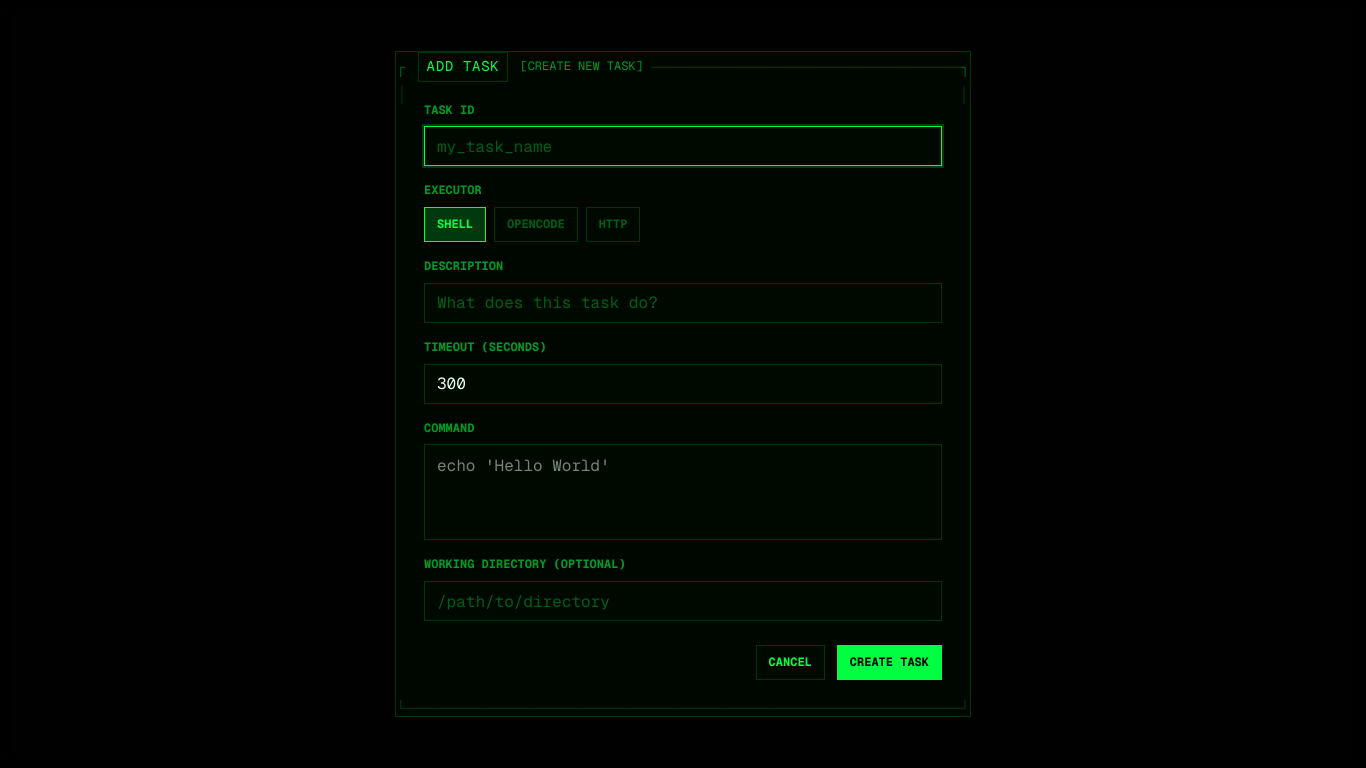
it: AddTaskModal › shows working directory for shell and opencode but not http
Expected: the field with placeholder "/path/to/directory" is shown, [424,581,942,621]
Click the button "http" at (613, 225), box [586,207,640,242]
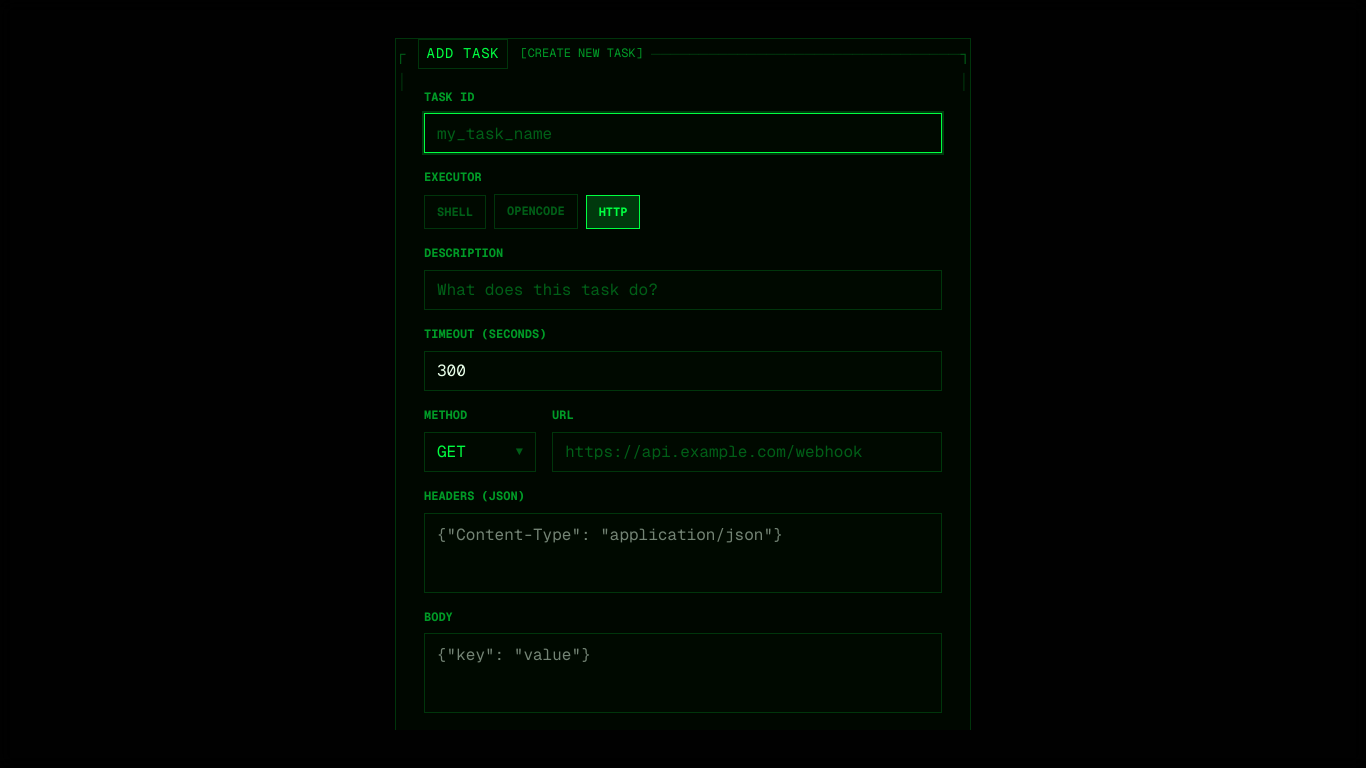
Expected: the field with placeholder "/path/to/directory" is gone
Note: Switch to opencode: workdir visible again
Click the button "opencode" at (536, 212), box [494,195,578,229]
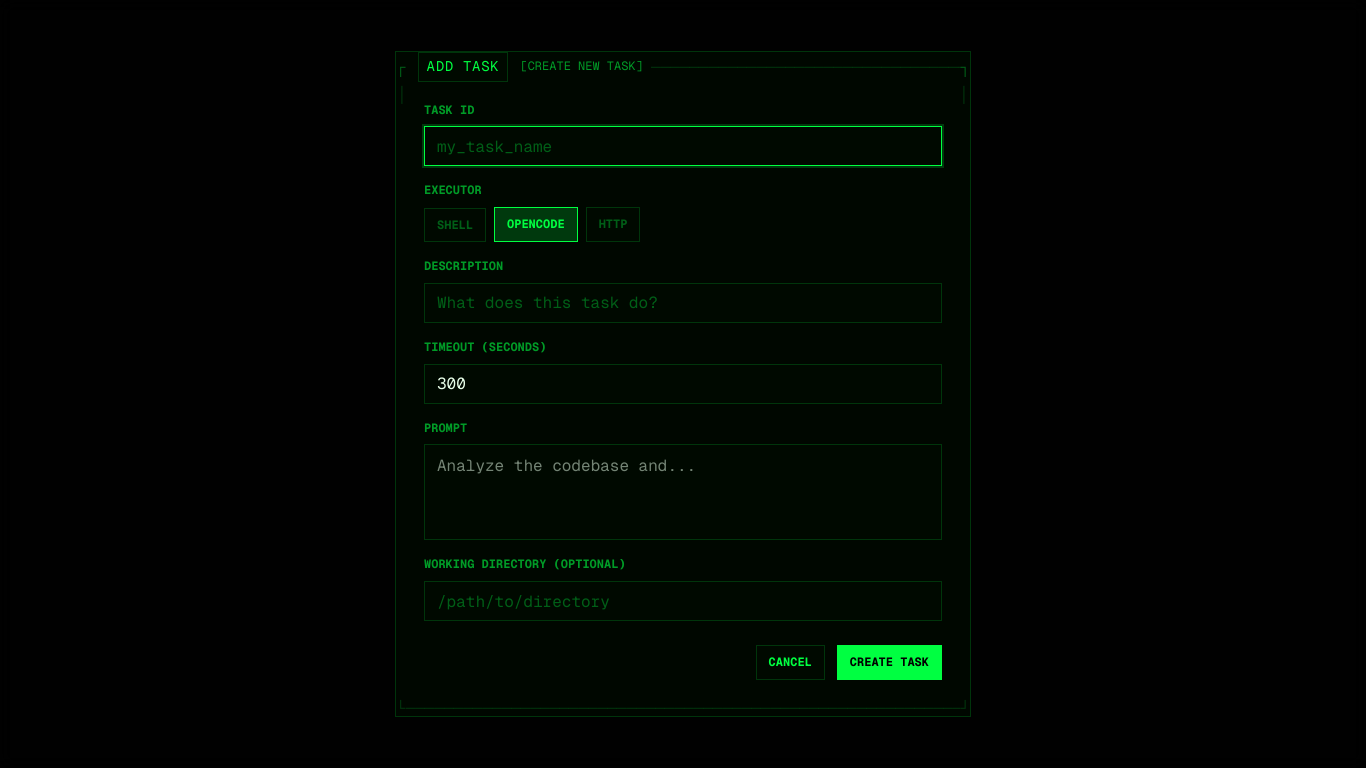
Expected: the field with placeholder "/path/to/directory" is shown, [424,581,942,621]
